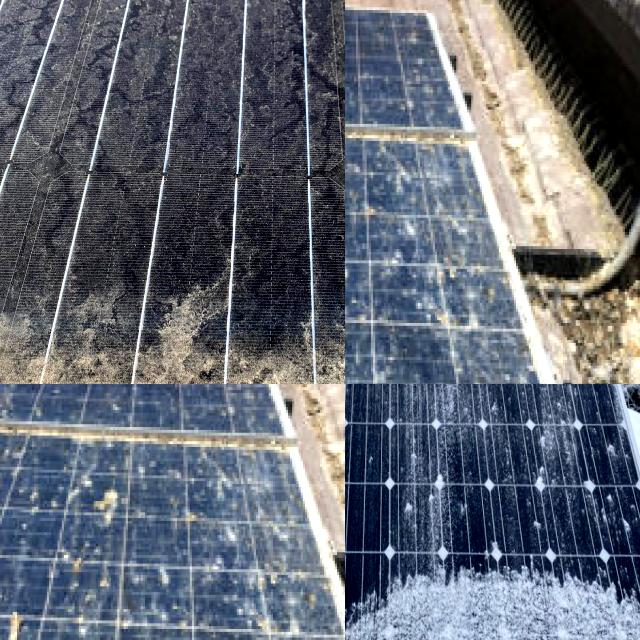bird: (429, 258, 497, 352), (249, 563, 318, 640), (74, 472, 136, 540), (345, 166, 375, 234), (0, 603, 41, 640), (345, 340, 377, 384), (345, 297, 366, 359)
dust: (1, 0, 234, 218), (0, 269, 162, 384), (191, 266, 345, 384), (269, 0, 345, 211)
panel: (403, 384, 476, 625), (425, 524, 553, 640), (510, 384, 587, 556), (345, 576, 424, 640), (562, 576, 640, 640), (345, 384, 368, 594), (345, 559, 395, 640), (345, 555, 391, 640)
